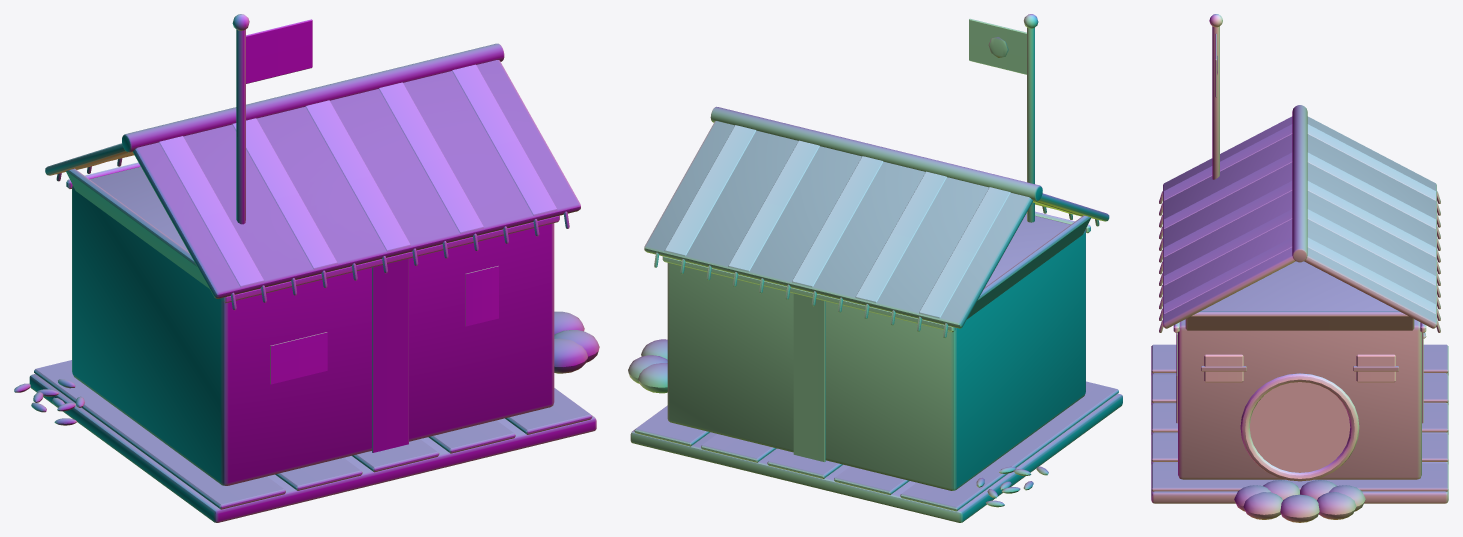
File: unit_base.glb
The picture shows the model from 3 angles, left to right: view 1: azimuth 30°, elevation 25°; view 2: azimuth 150°, elevation 25°; view 3: azimuth 270°, elevation 25°; orthographic projection. The views are drawn at different scales.
Visible parts, largest first — view 1: house, flag, pole; view 2: house, flag, pole; view 3: house, pole.
Boxes of the visible parts, bbox=[...] form: house: bbox=[14, 43, 599, 522]; flag: bbox=[246, 19, 312, 83]; pole: bbox=[232, 14, 249, 224]; house: bbox=[628, 106, 1122, 522]; flag: bbox=[969, 18, 1026, 74]; pole: bbox=[1023, 14, 1038, 222]; house: bbox=[1151, 105, 1448, 522]; pole: bbox=[1209, 14, 1222, 179].
Bounding box in the file's own units: 2.98 × 2.66 × 1.95.
